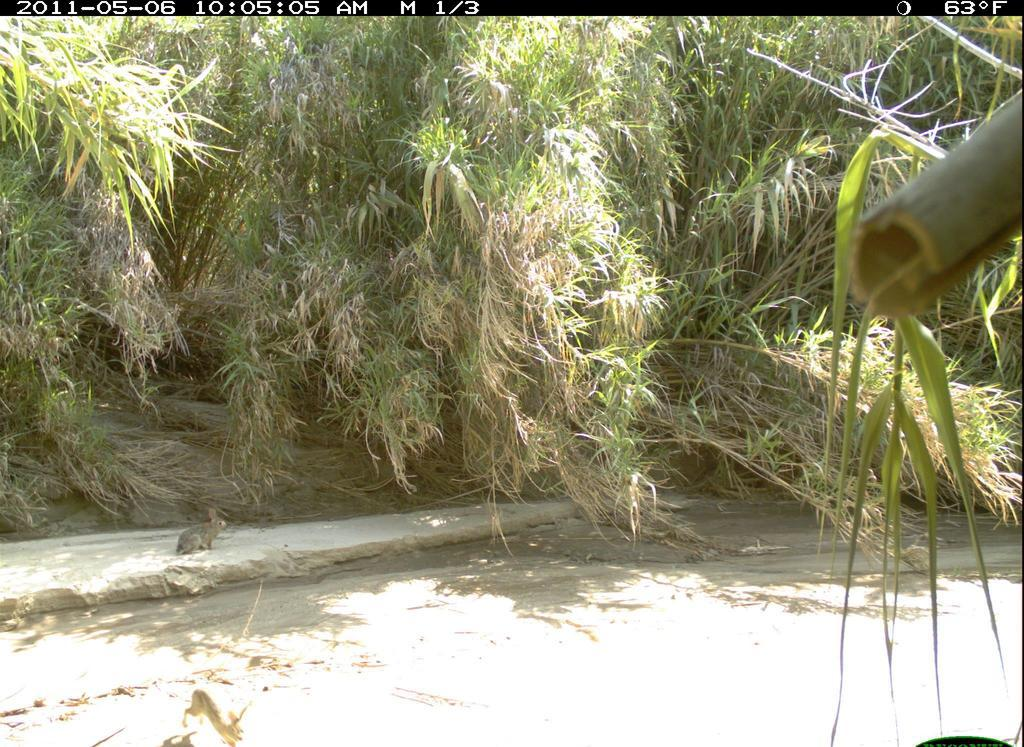rabbit: (168, 498, 239, 561)
